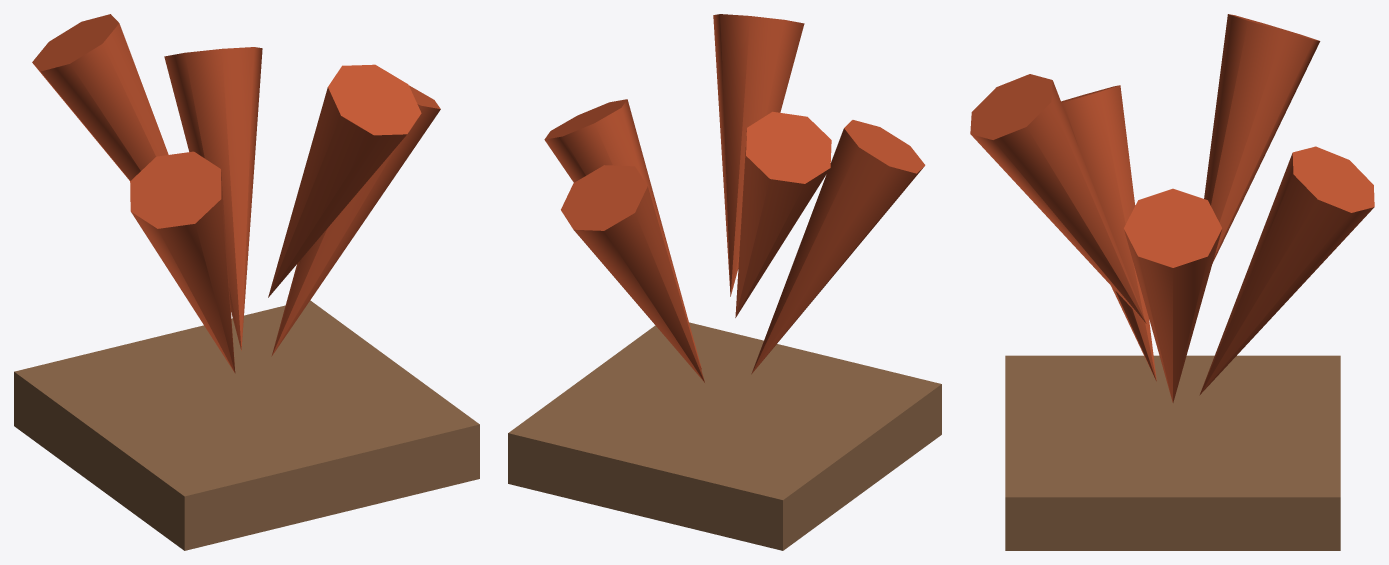
Rendered from item_chilli.glb.
The picture shows the model from 3 angles, left to right: view 1: azimuth 30°, elevation 25°; view 2: azimuth 150°, elevation 25°; view 3: azimuth 270°, elevation 25°; orthographic projection. The views are drawn at different scales.
Parts seen in each view (by area): view 1: item_chilli; view 2: item_chilli; view 3: item_chilli.
Boxes of the visible parts, x1,y1,x2,y2 form: item_chilli: [14, 14, 479, 550]; item_chilli: [508, 14, 941, 550]; item_chilli: [970, 14, 1374, 550].
Size of the model in its own units: 0.4014 by 0.4656 by 0.4098.
